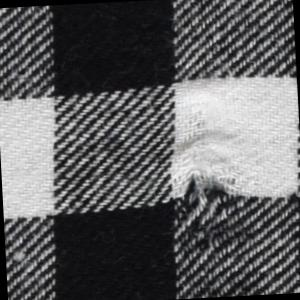Damage: (172, 114, 258, 259)
